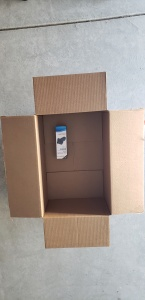innerbox: (38, 116, 110, 216)
outerbox: (2, 75, 145, 249)
product: (54, 125, 69, 162)
